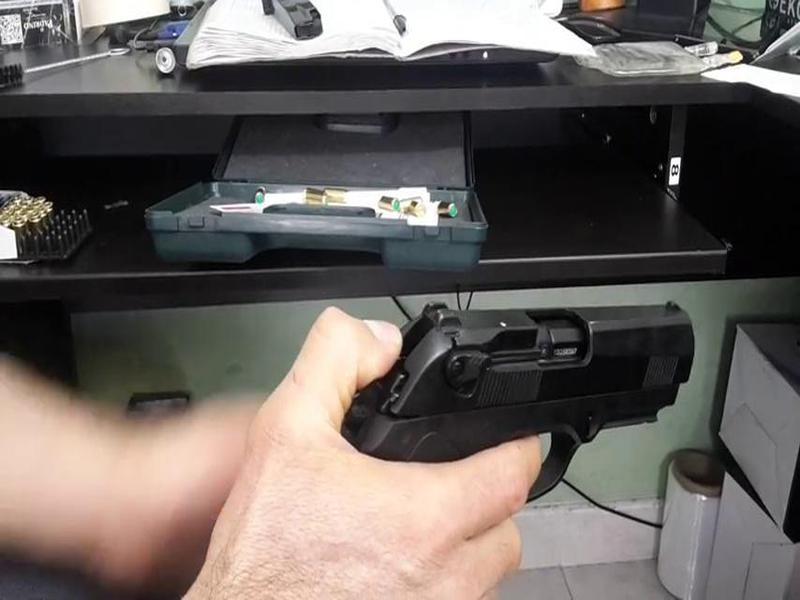Pistola: (338, 275, 724, 533)
